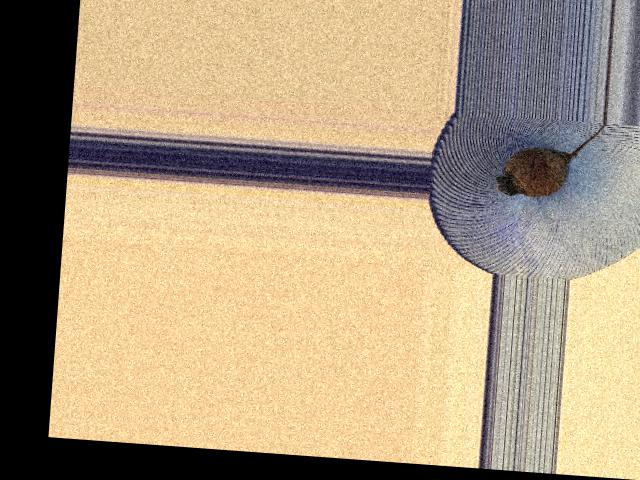beet: (494, 114, 605, 201)
